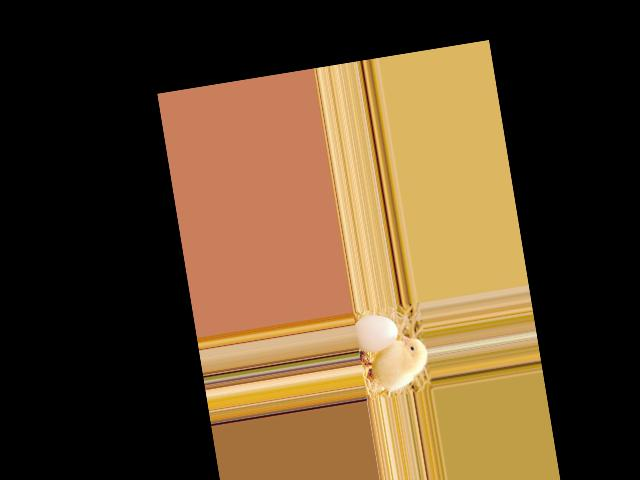egg: (353, 312, 400, 355)
